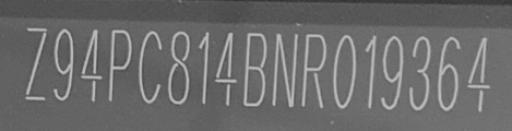letter: (463, 34, 493, 113), (242, 27, 270, 110), (298, 31, 328, 108), (330, 32, 358, 113), (22, 22, 50, 101), (78, 23, 106, 102), (106, 27, 134, 106), (136, 28, 164, 107), (378, 32, 406, 111), (270, 30, 298, 107), (167, 29, 193, 108), (406, 33, 432, 112), (435, 34, 461, 113), (212, 29, 238, 106), (51, 24, 75, 101), (194, 28, 214, 107), (360, 33, 380, 112)
